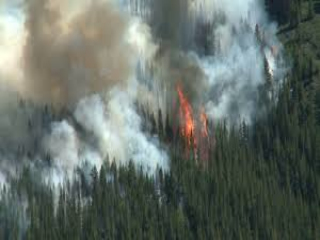fire: (174, 94, 214, 154)
smoke: (24, 84, 166, 187), (19, 6, 151, 90), (193, 6, 287, 120)
